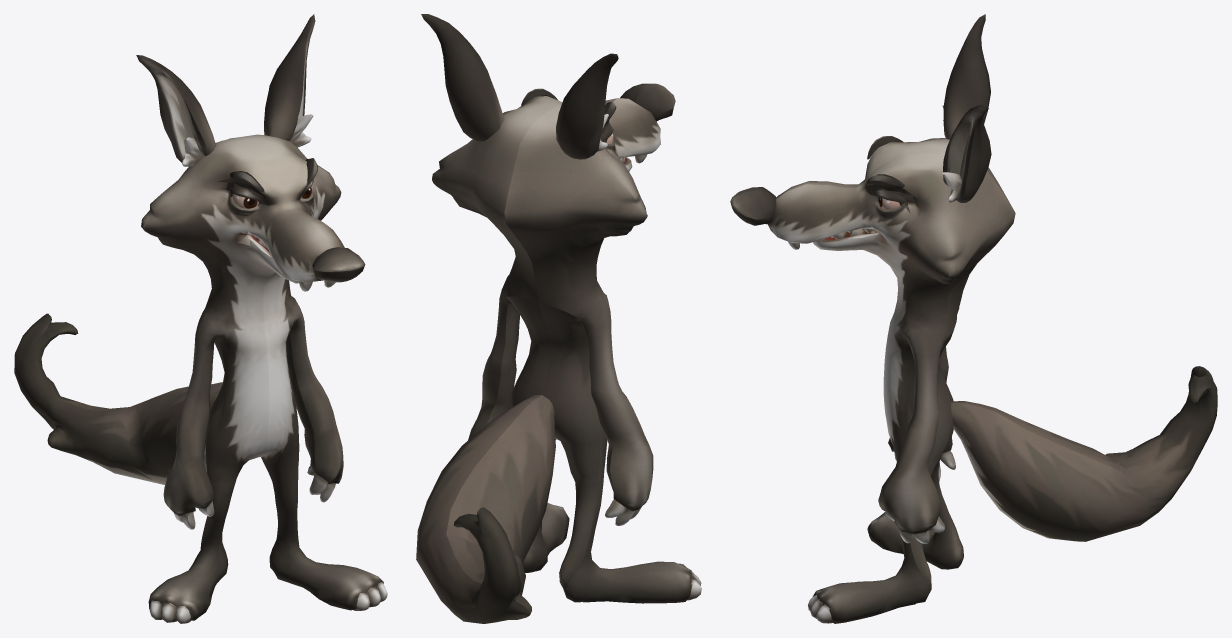
The model's file is coyote_lumi.glb.
3 views of the same model, side by side, from view 1: azimuth 30°, elevation 25°; view 2: azimuth 150°, elevation 25°; view 3: azimuth 270°, elevation 25° (orthographic). The views are drawn at different scales.
Parts seen in each view (by area): view 1: Lumi; view 2: Lumi; view 3: Lumi.
Part boxes in pixels (x1,y1,x2,y2): Lumi: (14,14,387,623); Lumi: (416,14,701,623); Lumi: (730,14,1217,623).
Size of the model in its own units: 0.6895 by 1.6 by 1.33.
1 material, 1 textured.
